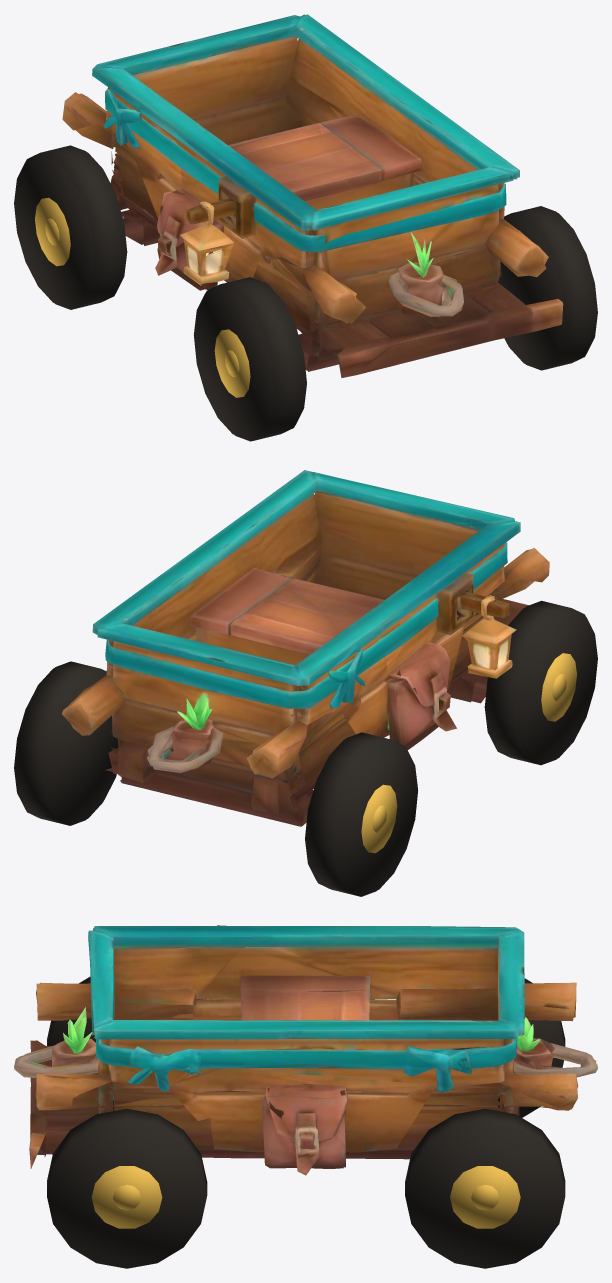
File: veh_cart.glb
3 views of the same model, one above another, from view 1: azimuth 30°, elevation 25°; view 2: azimuth 150°, elevation 25°; view 3: azimuth 270°, elevation 25° (orthographic).
Visible parts, largest first — view 1: body, wheels; view 2: body, wheels; view 3: body, wheels.
Part boxes in pixels (bbox=[...]): body: bbox=[62, 14, 563, 378]; wheels: bbox=[14, 145, 597, 441]; body: bbox=[62, 470, 549, 826]; wheels: bbox=[14, 600, 597, 896]; body: bbox=[14, 925, 597, 1175]; wheels: bbox=[47, 977, 565, 1268].
Size of the model in its own units: 1.6 by 1 by 2.48.
Materials: 2 (1 with a texture image).
